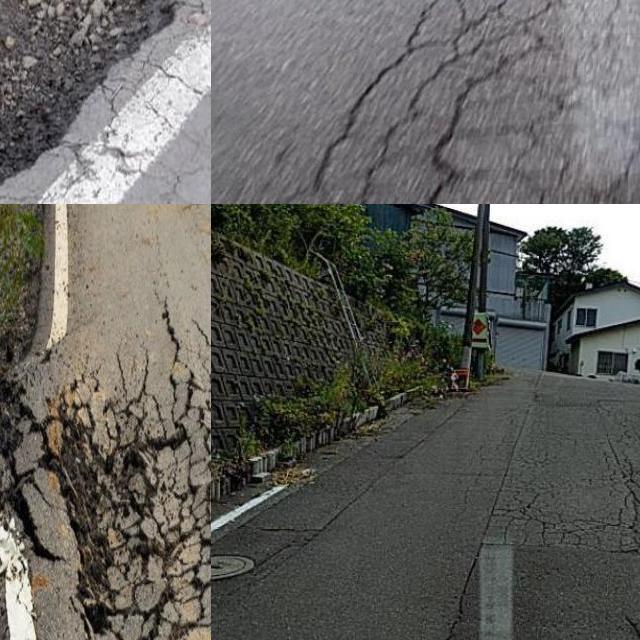Memanjang: (432, 393, 543, 640), (596, 414, 640, 544)
Pinggir: (0, 229, 211, 640), (0, 0, 190, 195)
Retak Buaya: (235, 0, 640, 204)
